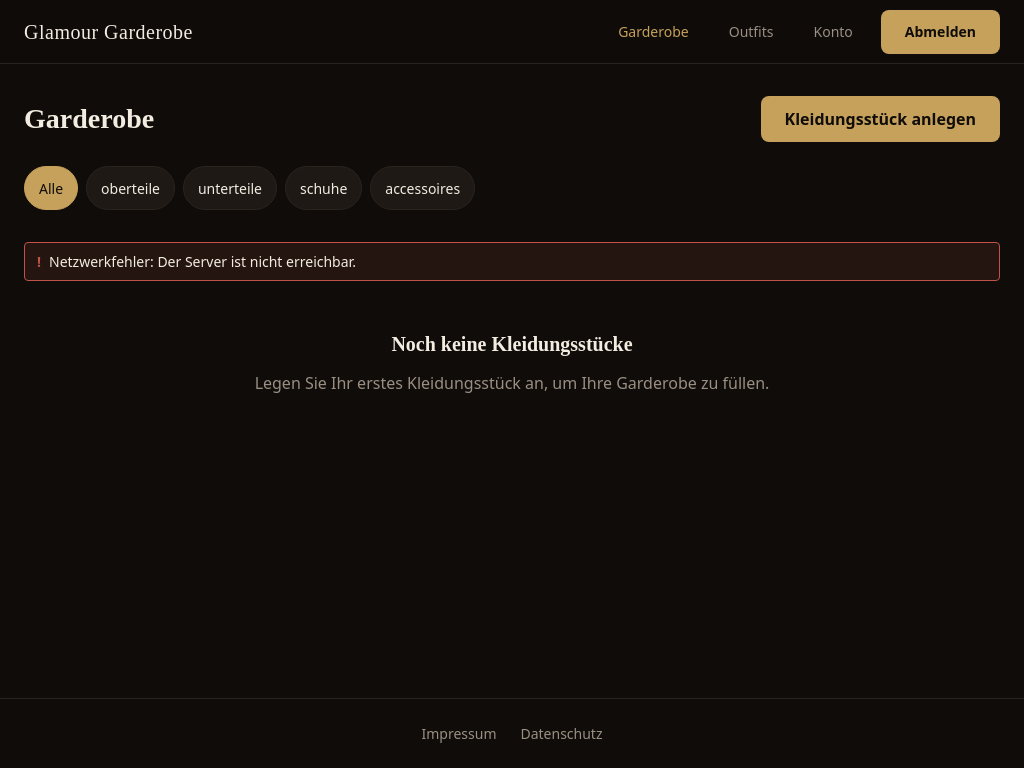
Test: Logout und Guard › zeigt die Garderobe mit Token und führt nach dem Abmelden zurück zur Anmeldung
Check: the heading "Garderobe" is shown, box [24,98,154,140]
Click the button "Abmelden".
click(940, 32)  # box [881,10,1000,54]
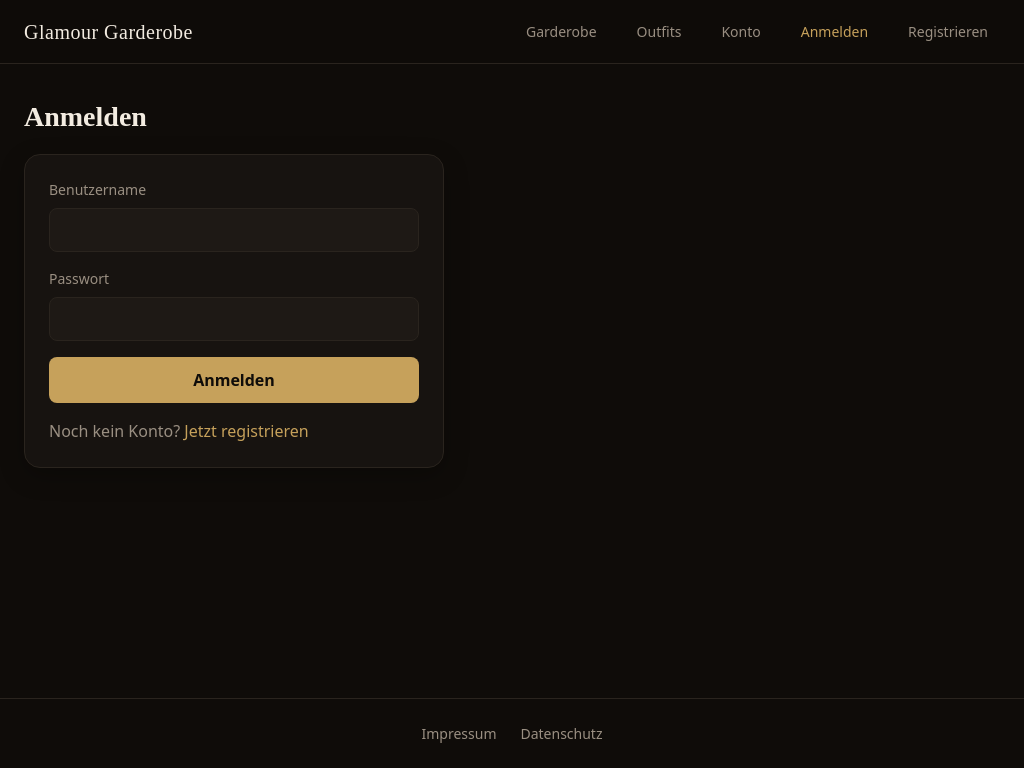
Check: the heading "Anmelden" is shown, box [24,101,147,132]
